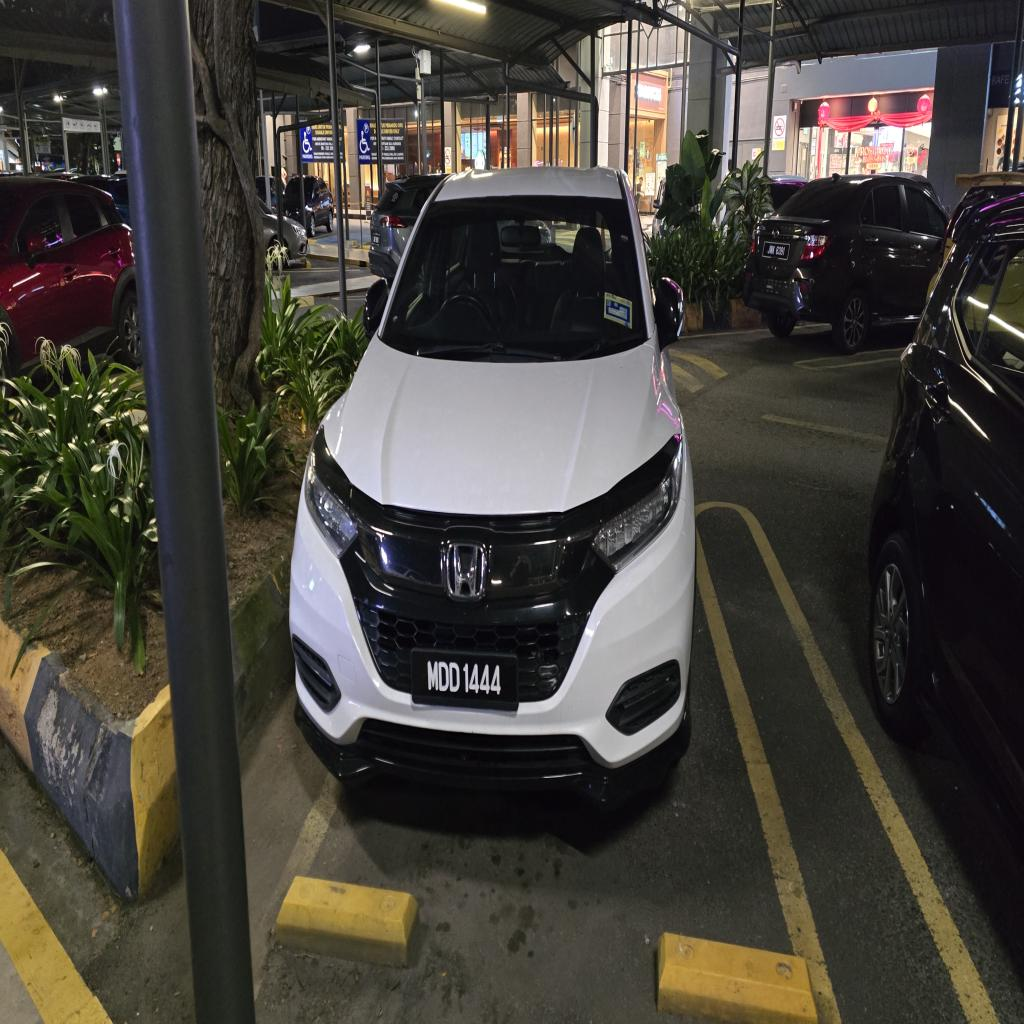car: (290, 168, 695, 805), (743, 174, 947, 352)
car plate: (410, 648, 518, 709), (761, 240, 790, 259)
